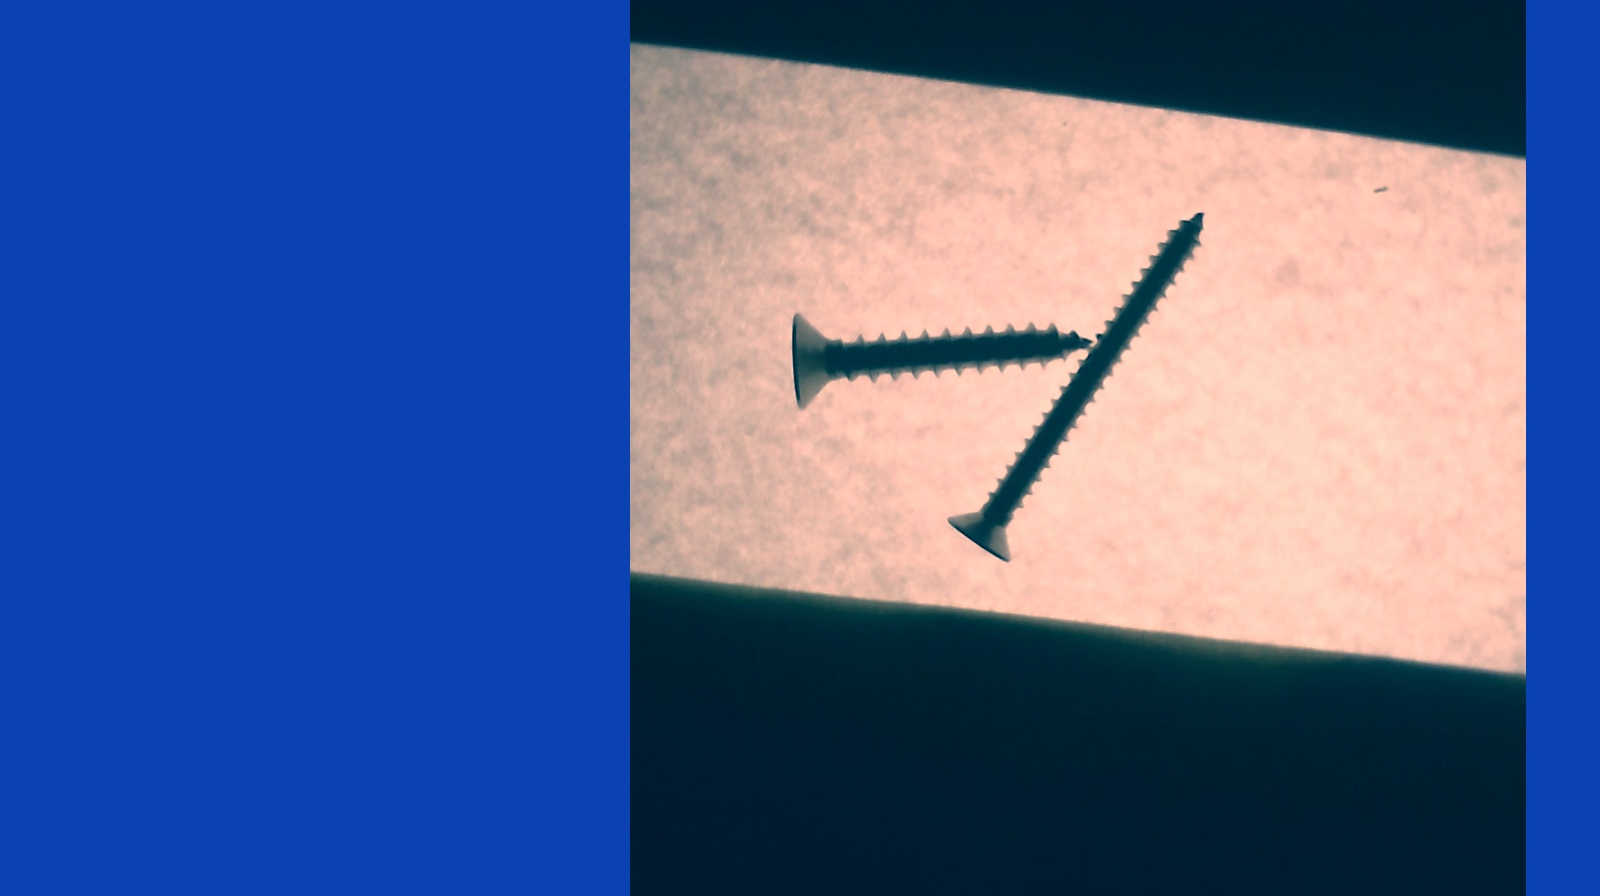S001: (785, 290, 1103, 414)
S002: (938, 211, 1212, 565)
